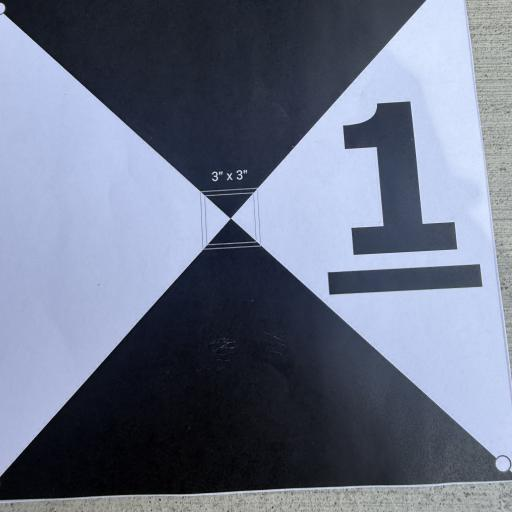target1: (0, 0, 510, 477)
